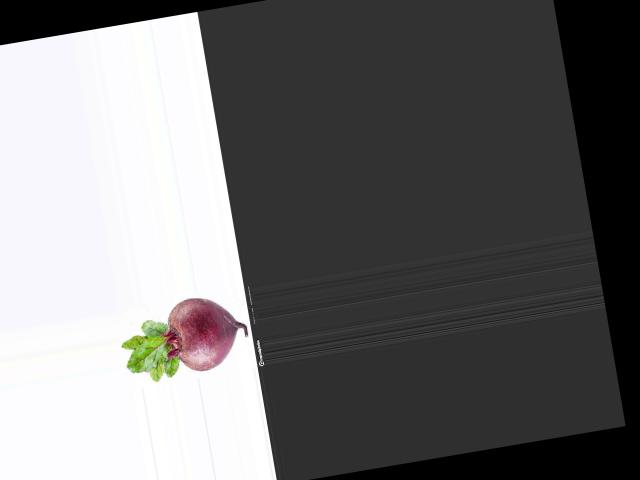beet: (115, 289, 252, 386)
